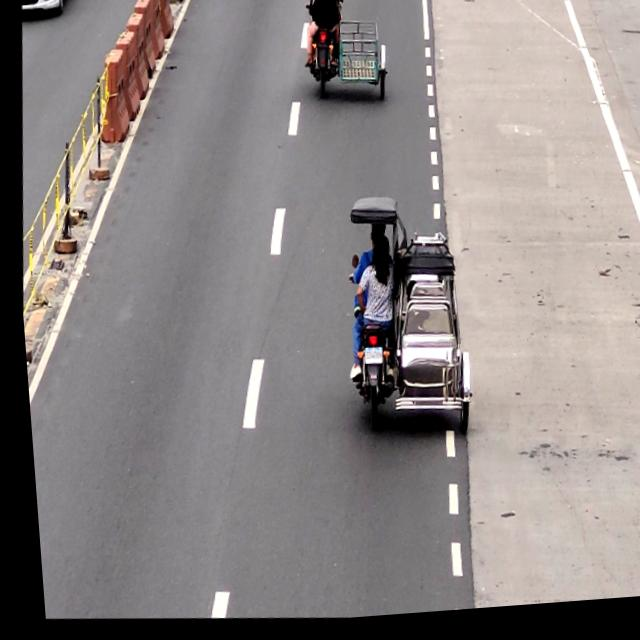License-Plate: (356, 348, 377, 375)
Tricycle: (329, 196, 481, 445), (292, 0, 393, 106)
